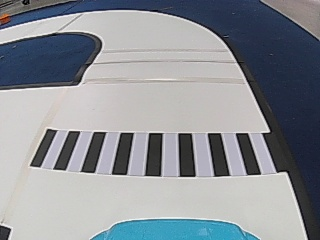CrossWalk: (24, 128, 287, 175)
